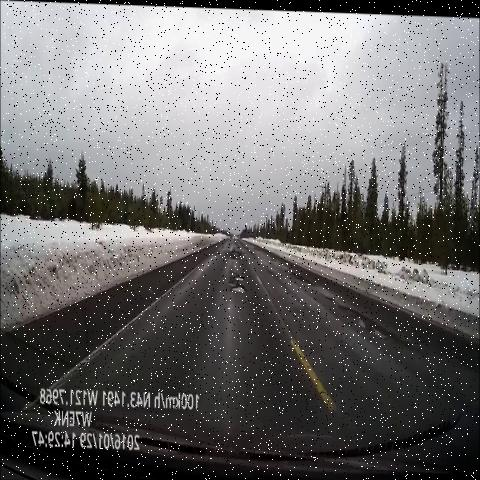pothole: (326, 299, 418, 363), (278, 257, 318, 295), (224, 266, 252, 299), (226, 239, 244, 268)
